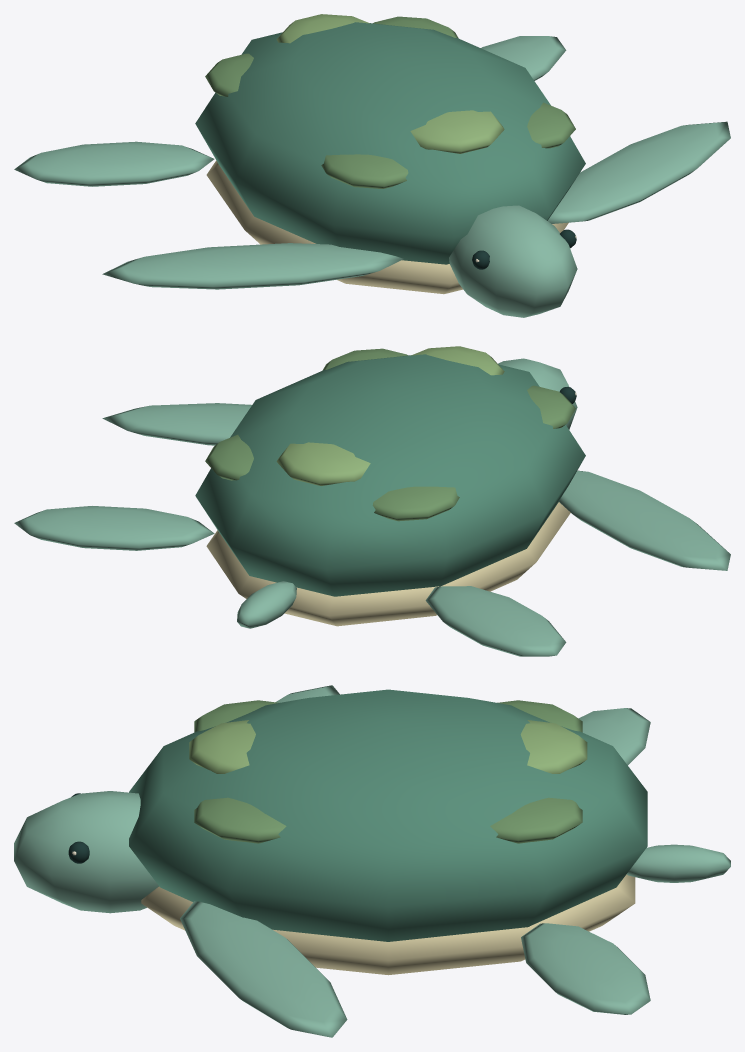
The model's file is ocean-sea-turtle-0.glb.
3 views of the same model, one above another, from view 1: azimuth 30°, elevation 25°; view 2: azimuth 150°, elevation 25°; view 3: azimuth 270°, elevation 25° (orthographic). The views are drawn at different scales.
Parts seen in each view (by area): view 1: ocean-sea-turtle-0, Flipper0, Flipper2, Flipper1, Flipper3; view 2: ocean-sea-turtle-0, Flipper0, Flipper3, Flipper1, Flipper2; view 3: ocean-sea-turtle-0, Flipper2, Flipper3, Flipper1.
Boxes of the visible parts, box(x1,y1,x2,y2) form: ocean-sea-turtle-0: box(195, 14, 585, 317); Flipper0: box(102, 243, 403, 289); Flipper2: box(548, 121, 730, 223); Flipper1: box(14, 141, 214, 186); Flipper3: box(481, 36, 566, 80); ocean-sea-turtle-0: box(195, 346, 585, 628); Flipper0: box(559, 470, 730, 570); Flipper3: box(14, 506, 214, 550); Flipper1: box(425, 586, 566, 656); Flipper2: box(102, 403, 251, 445); ocean-sea-turtle-0: box(14, 689, 730, 975); Flipper2: box(180, 901, 347, 1037); Flipper3: box(521, 923, 650, 1014); Flipper1: box(578, 708, 650, 765).
Bounding box in the file's own units: 3.21 × 0.89 × 2.76.
